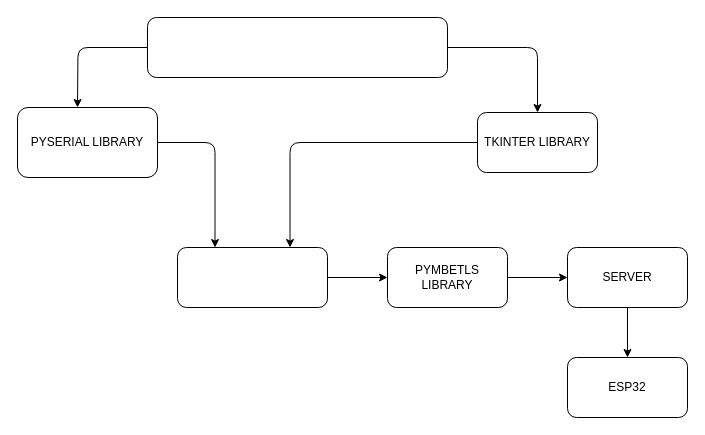
Image size: 705x435. Some labels were removed from this diagram. Each missing label, with the box of its shape:
CLIENT: (176, 246, 328, 308)
USER INTERFACE: (146, 16, 448, 78)
